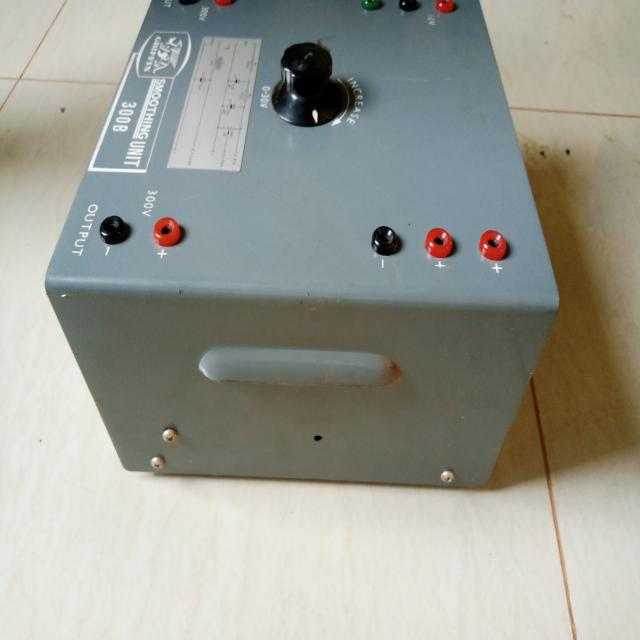Smoothing Unit: (34, 0, 563, 524)
